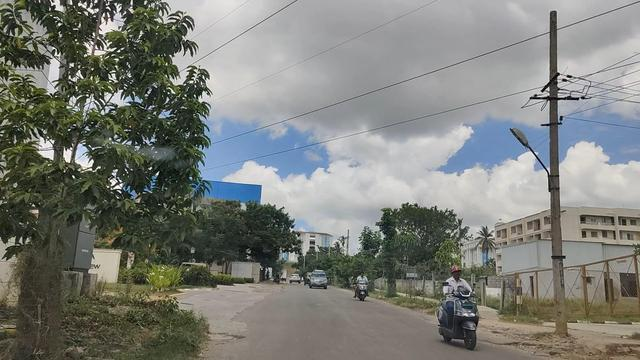RoadDamages: (209, 314, 260, 349)
